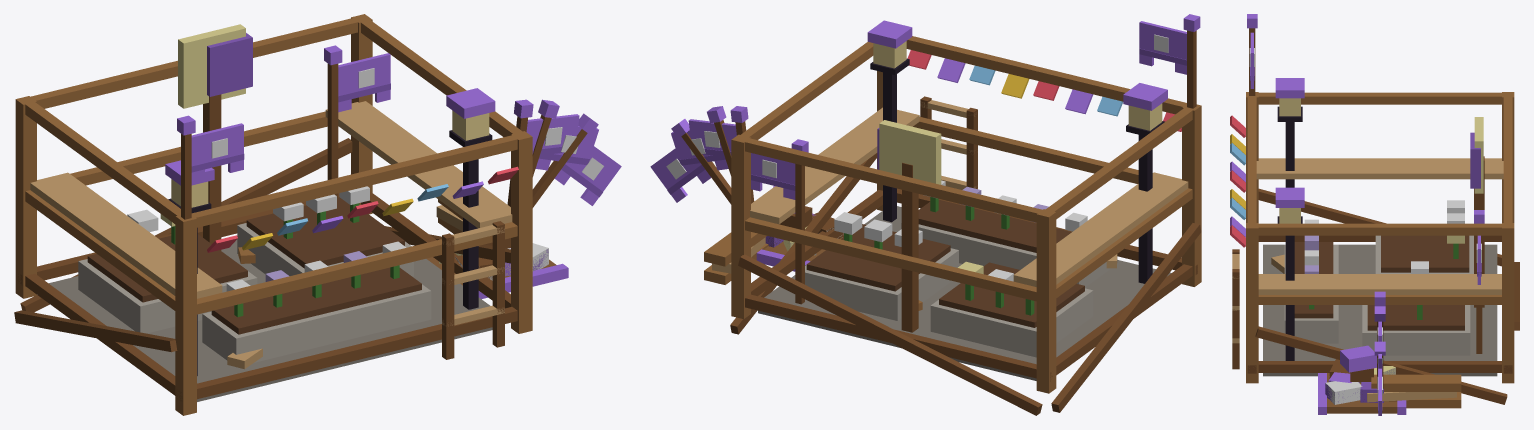
File: moth-producer.glb
The picture shows the model from 3 angles, left to right: view 1: azimuth 30°, elevation 25°; view 2: azimuth 150°, elevation 25°; view 3: azimuth 270°, elevation 25°; orthographic projection. The views are drawn at different scales.
Parts seen in each view (by area): view 1: scaffold-mesh, built-mesh, dismantle-50-mesh, dismantle-75-mesh, dismantle-25-mesh, scaffold-banner, banner, dismantle-25-banner, flag-pole, dismantle-50-banner, scaffold-flag-pole, dismantle-75-banner (+2 smaller); view 2: scaffold-mesh, built-mesh, dismantle-50-mesh, dismantle-75-mesh, scaffold-banner, dismantle-25-banner, banner, flag-pole, dismantle-50-banner, dismantle-75-banner, scaffold-flag-pole, dismantle-25-flag-pole (+2 smaller); view 3: scaffold-mesh, dismantle-50-mesh, built-mesh, dismantle-75-mesh, dismantle-25-mesh, flag-pole, scaffold-flag-pole, scaffold-banner.
Boxes of the visible parts, x1=… form: scaffold-mesh: x1=14, y1=14, x2=532, y2=415; built-mesh: x1=138, y1=24, x2=495, y2=362; dismantle-50-mesh: x1=49, y1=175, x2=568, y2=393; dismantle-75-mesh: x1=78, y1=115, x2=568, y2=401; dismantle-25-mesh: x1=78, y1=233, x2=568, y2=401; scaffold-banner: x1=191, y1=123, x2=244, y2=182; banner: x1=338, y1=53, x2=390, y2=112; dismantle-25-banner: x1=554, y1=146, x2=621, y2=205; flag-pole: x1=324, y1=45, x2=342, y2=197; dismantle-50-banner: x1=535, y1=123, x2=598, y2=175; scaffold-flag-pole: x1=177, y1=115, x2=195, y2=219; dismantle-75-banner: x1=526, y1=114, x2=579, y2=156; scaffold-mesh: x1=704, y1=36, x2=1201, y2=415; built-mesh: x1=849, y1=20, x2=1167, y2=315; dismantle-50-mesh: x1=757, y1=182, x2=1171, y2=380; dismantle-75-mesh: x1=756, y1=87, x2=1109, y2=380; scaffold-banner: x1=1139, y1=21, x2=1186, y2=74; dismantle-25-banner: x1=650, y1=141, x2=711, y2=202; banner: x1=751, y1=153, x2=795, y2=199; flag-pole: x1=791, y1=139, x2=808, y2=304; dismantle-50-banner: x1=671, y1=127, x2=728, y2=174; dismantle-75-banner: x1=688, y1=119, x2=736, y2=157; scaffold-flag-pole: x1=1183, y1=14, x2=1200, y2=108; dismantle-25-flag-pole: x1=671, y1=119, x2=731, y2=204; scaffold-mesh: x1=1230, y1=92, x2=1519, y2=408; dismantle-50-mesh: x1=1263, y1=200, x2=1497, y2=414; built-mesh: x1=1275, y1=78, x2=1484, y2=360; dismantle-75-mesh: x1=1304, y1=196, x2=1484, y2=414; dismantle-25-mesh: x1=1271, y1=261, x2=1449, y2=412; flag-pole: x1=1474, y1=210, x2=1484, y2=353; scaffold-flag-pole: x1=1247, y1=14, x2=1257, y2=95; scaffold-banner: x1=1249, y1=32, x2=1254, y2=88.
Bounding box in the file's own units: 2.7 × 1.55 × 1.61.
